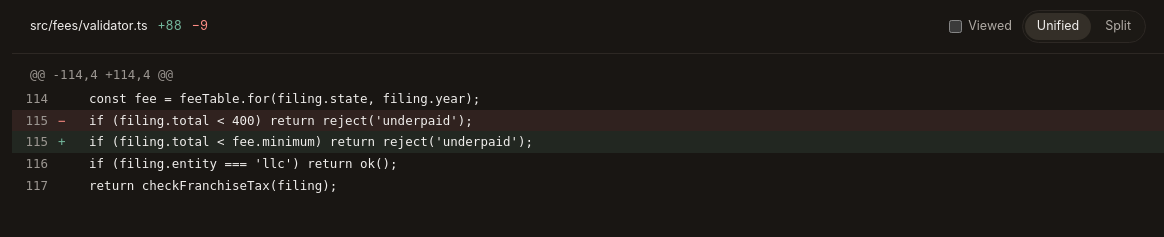
Test: PrDiff › marks viewed at once, and shows the reason and the old state on a refusal
This screenshot has width=1164, height=237.
Click the checkbox labelled "Viewed".
click(956, 26)  # box [949, 20, 962, 33]
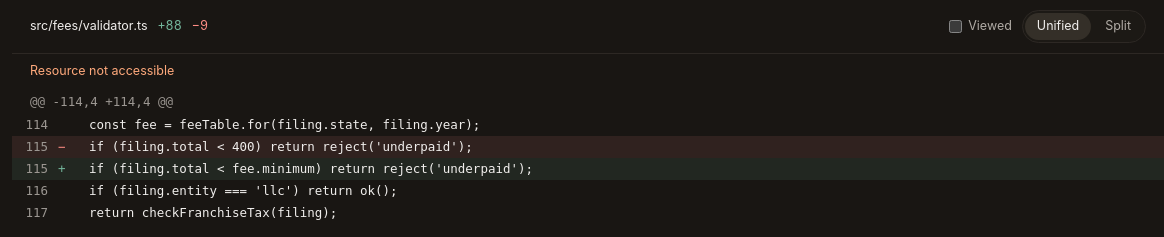
Expected: the text "Resource not accessible" is shown, [30, 63, 174, 78]
